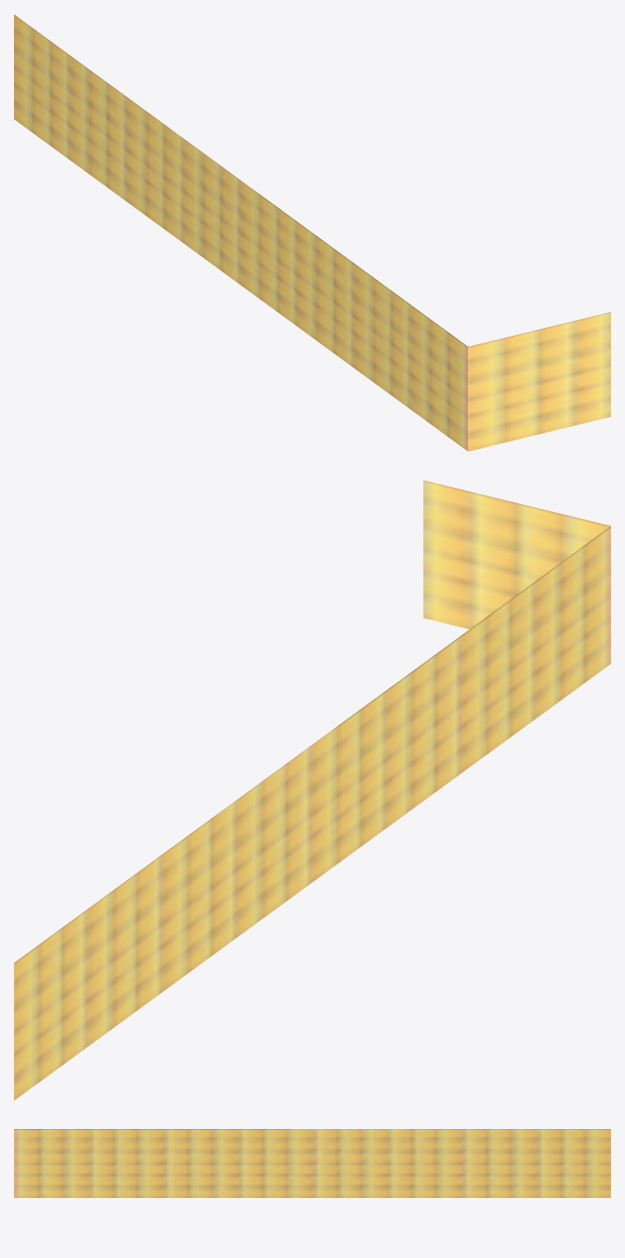
File: tilecounter.glb
3 views of the same model, one above another, from view 1: azimuth 30°, elevation 25°; view 2: azimuth 150°, elevation 25°; view 3: azimuth 270°, elevation 25° (orthographic). The views are drawn at different scales.
Visible parts, largest first — view 1: tilecounter; view 2: tilecounter; view 3: tilecounter.
Part boxes in pixels (x1,y1,x2,y2): tilecounter: [14, 14, 610, 451]; tilecounter: [14, 480, 610, 1100]; tilecounter: [14, 1129, 610, 1197].
Size of the model in its own units: 162 by 114 by 891.
Materials: 1 (1 with a texture image).
